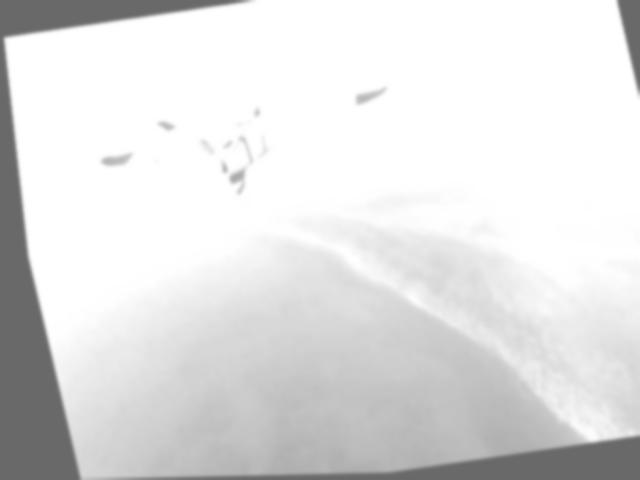hedef: (82, 71, 416, 220)
